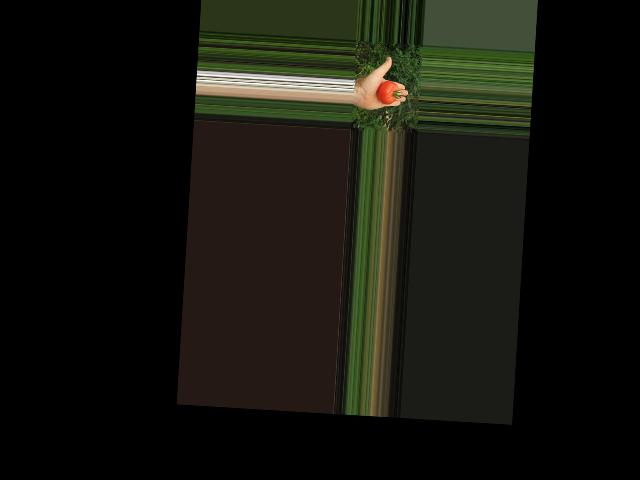tomato: (376, 80, 398, 105)
